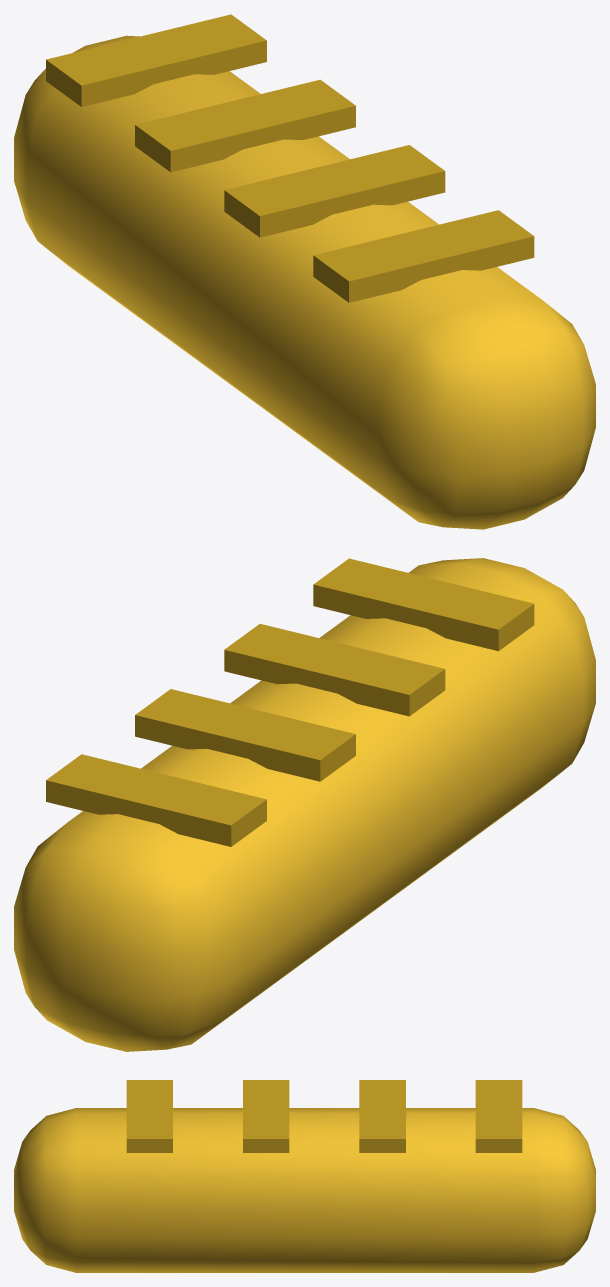
Rendered from squeegee_grip.fbx.
3 views of the same model, one above another, from view 1: azimuth 30°, elevation 25°; view 2: azimuth 150°, elevation 25°; view 3: azimuth 270°, elevation 25° (orthographic). The views are drawn at different scales.
Parts seen in each view (by area): view 1: squeegee_grip; view 2: squeegee_grip; view 3: squeegee_grip.
Part boxes in pixels (x1,y1,x2,y2): squeegee_grip: [14, 14, 595, 529]; squeegee_grip: [14, 558, 595, 1051]; squeegee_grip: [14, 1080, 595, 1272].
Size of the model in its own units: 0.04 by 0.043 by 0.15.
